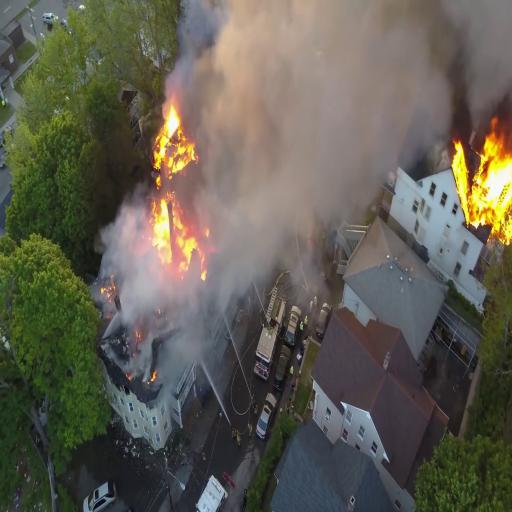fire: (151, 192, 204, 277), (161, 101, 193, 168)
smoke: (218, 20, 342, 173)
